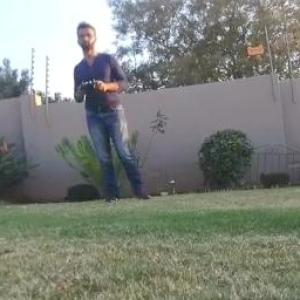follow: (72, 16, 158, 206)
